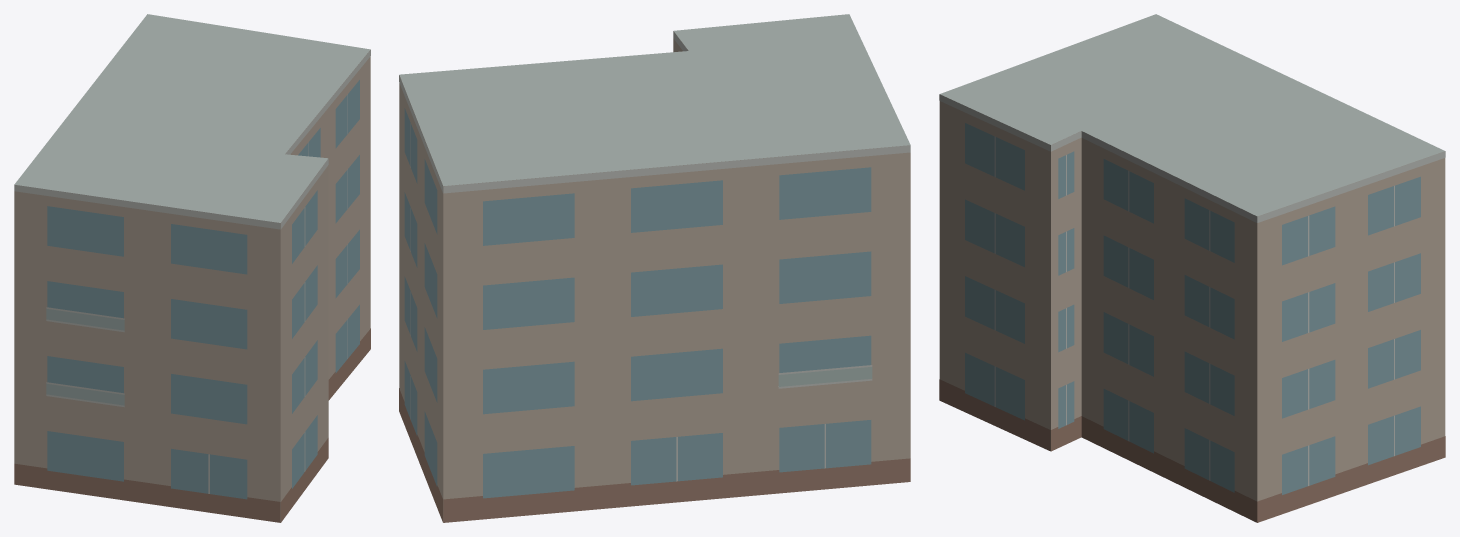
The model's file is survey-upis-32594856.glb.
3 views of the same model, side by side, from view 1: azimuth 30°, elevation 25°; view 2: azimuth 150°, elevation 25°; view 3: azimuth 270°, elevation 25° (orthographic). The views are drawn at different scales.
Parts seen in each view (by area): view 1: survey-upis-32594856.tmp; view 2: survey-upis-32594856.tmp; view 3: survey-upis-32594856.tmp.
Part boxes in pixels (x1,y1,x2,y2): survey-upis-32594856.tmp: (14,14,370,522); survey-upis-32594856.tmp: (399,14,910,522); survey-upis-32594856.tmp: (939,14,1445,522).
Bounding box in the file's own units: 15.88 × 11.2 × 16.77.
